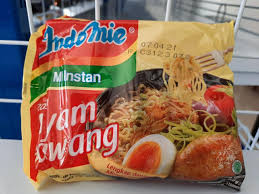Indomie Ayam Bawang (69g): (15, 12, 248, 191)
